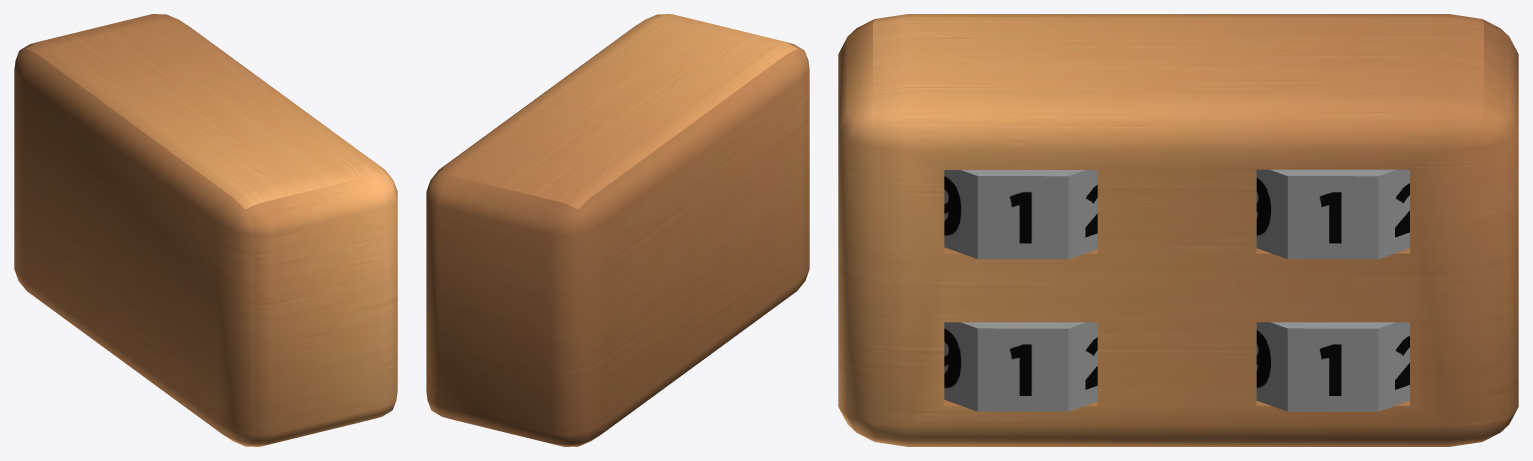
The model's file is Lock.fbx.
The picture shows the model from 3 angles, left to right: view 1: azimuth 30°, elevation 25°; view 2: azimuth 150°, elevation 25°; view 3: azimuth 270°, elevation 25°; orthographic projection. The views are drawn at different scales.
Visible parts, largest first — view 1: Cube.002; view 2: Cube.002; view 3: Cube.002, Cylinder.010, Cylinder.013, Cylinder.011, Cylinder.009.
Boxes of the visible parts, x1=… form: Cube.002: x1=14, y1=14, x2=397, y2=446; Cube.002: x1=426, y1=14, x2=809, y2=446; Cube.002: x1=838, y1=14, x2=1518, y2=446; Cylinder.010: x1=1256, y1=169, x2=1409, y2=259; Cylinder.013: x1=1256, y1=322, x2=1409, y2=411; Cylinder.011: x1=944, y1=322, x2=1097, y2=411; Cylinder.009: x1=944, y1=170, x2=1097, y2=259.
Size of the model in its own units: 129 by 173 by 308.
Materials: 2 (2 with a texture image).
